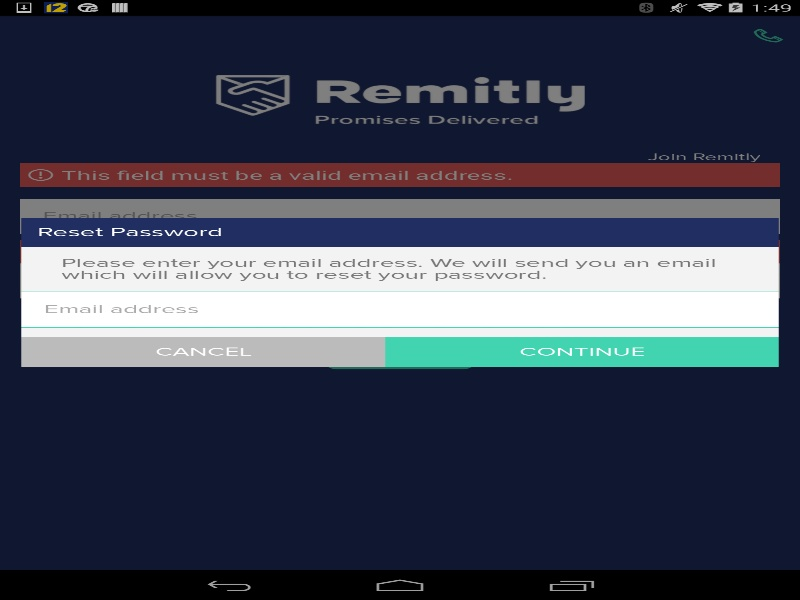Button: (385, 337, 778, 367), (21, 337, 385, 367)
Input: (21, 292, 778, 327)
